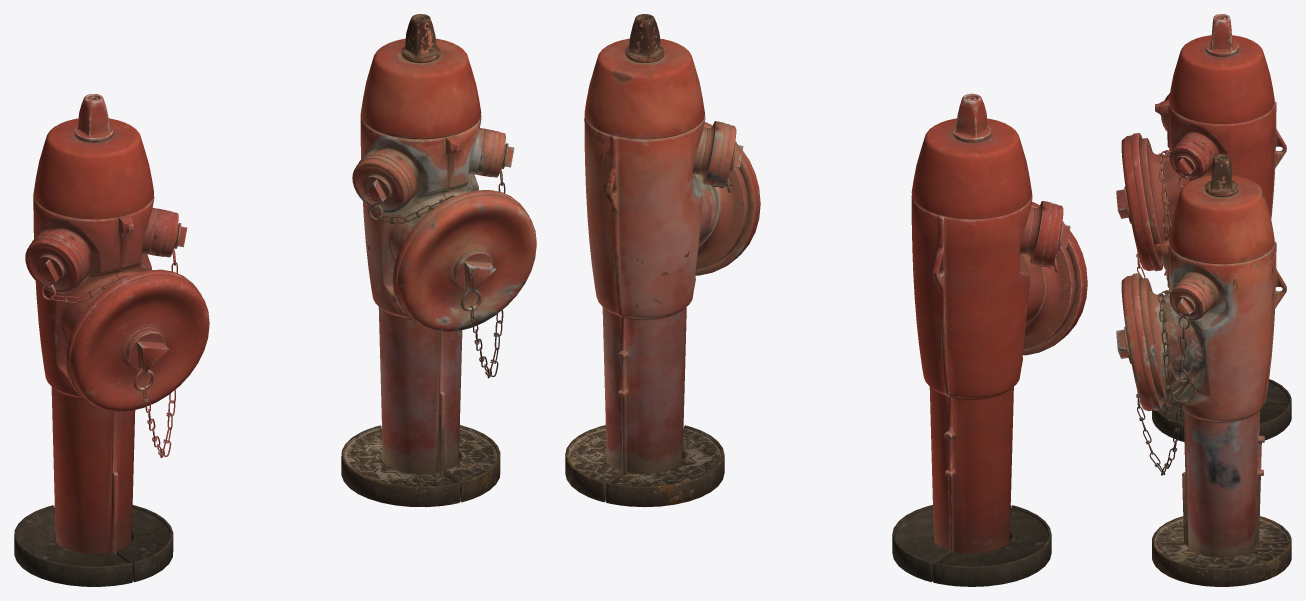
Rendered from fire_hydrant.glb.
3 views of the same model, side by side, from view 1: azimuth 30°, elevation 25°; view 2: azimuth 150°, elevation 25°; view 3: azimuth 270°, elevation 25° (orthographic). The views are drawn at different scales.
Visible parts, largest first — view 1: fire_hydrant_aged, fire_hydrant, fire_hydrant_cap_01, fire_hydrant_cap_01_aged, fire_hydrant_cap_03_aged, fire_hydrant_cap_03, fire_hydrant_chain, fire_hydrant_chain_aged, fire_hydrant_cap_02, fire_hydrant_cap_02_aged; view 2: fire_hydrant_aged, fire_hydrant, fire_hydrant_cap_01_aged, fire_hydrant_cap_01, fire_hydrant_cap_03_aged, fire_hydrant_cap_03; view 3: fire_hydrant_aged, fire_hydrant, fire_hydrant_cap_01, fire_hydrant_cap_01_aged, fire_hydrant_chain_aged, fire_hydrant_cap_02_aged, fire_hydrant_cap_02, fire_hydrant_chain.
Part boxes in pixels (x1=…): fire_hydrant_aged: x1=341, y1=14, x2=500, y2=506; fire_hydrant: x1=14, y1=94, x2=173, y2=586; fire_hydrant_cap_01: x1=65, y1=269, x2=209, y2=411; fire_hydrant_cap_01_aged: x1=392, y1=190, x2=536, y2=331; fire_hydrant_cap_03_aged: x1=352, y1=155, x2=411, y2=213; fire_hydrant_cap_03: x1=25, y1=235, x2=84, y2=293; fire_hydrant_chain: x1=41, y1=224, x2=178, y2=457; fire_hydrant_chain_aged: x1=368, y1=145, x2=505, y2=378; fire_hydrant_cap_02: x1=159, y1=210, x2=187, y2=257; fire_hydrant_cap_02_aged: x1=486, y1=130, x2=514, y2=177; fire_hydrant_aged: x1=565, y1=14, x2=748, y2=507; fire_hydrant: x1=892, y1=93, x2=1075, y2=586; fire_hydrant_cap_01_aged: x1=695, y1=122, x2=760, y2=275; fire_hydrant_cap_01: x1=1022, y1=202, x2=1087, y2=355; fire_hydrant_cap_03_aged: x1=713, y1=123, x2=743, y2=186; fire_hydrant_cap_03: x1=1041, y1=203, x2=1070, y2=266; fire_hydrant_aged: x1=1139, y1=154, x2=1291, y2=586; fire_hydrant: x1=1139, y1=14, x2=1291, y2=441; fire_hydrant_cap_01: x1=1116, y1=133, x2=1162, y2=271; fire_hydrant_cap_01_aged: x1=1116, y1=273, x2=1162, y2=411; fire_hydrant_chain_aged: x1=1136, y1=289, x2=1196, y2=475; fire_hydrant_cap_02_aged: x1=1169, y1=281, x2=1209, y2=320; fire_hydrant_cap_02: x1=1169, y1=141, x2=1209, y2=180; fire_hydrant_chain: x1=1136, y1=149, x2=1194, y2=280.
Size of the model in its own units: 0.8746 by 0.7995 by 0.3177.
2 materials, 2 textured.
